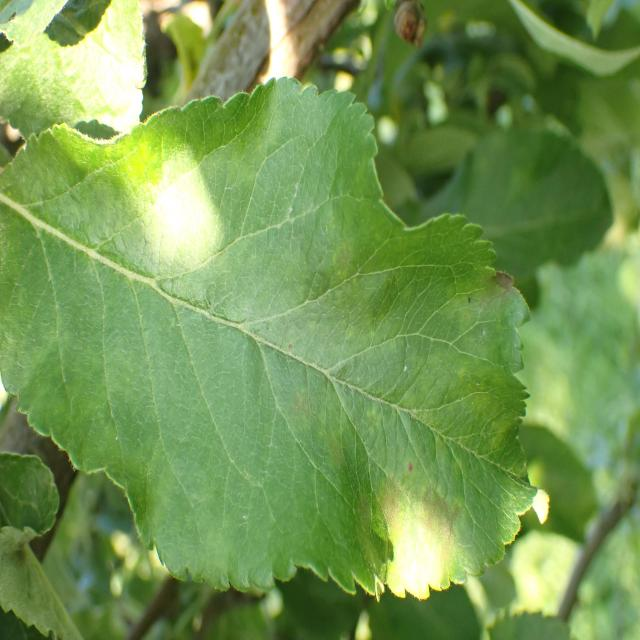scab: (250, 166, 545, 608), (0, 154, 163, 578)
